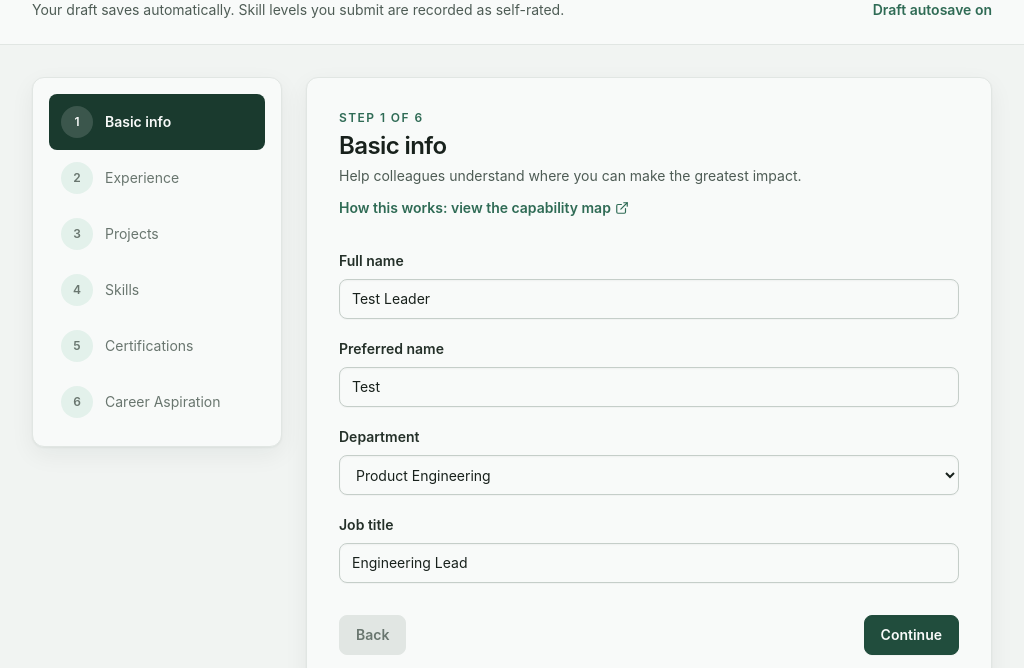
Test: profile validation feedback › navigates to the invalid step and shows the actionable field error
The image size is (1024, 668).
Click the button "6 Career Aspiration". click: [157, 402]
box: x1=49 y1=374 x2=265 y2=430
(page scrolled)
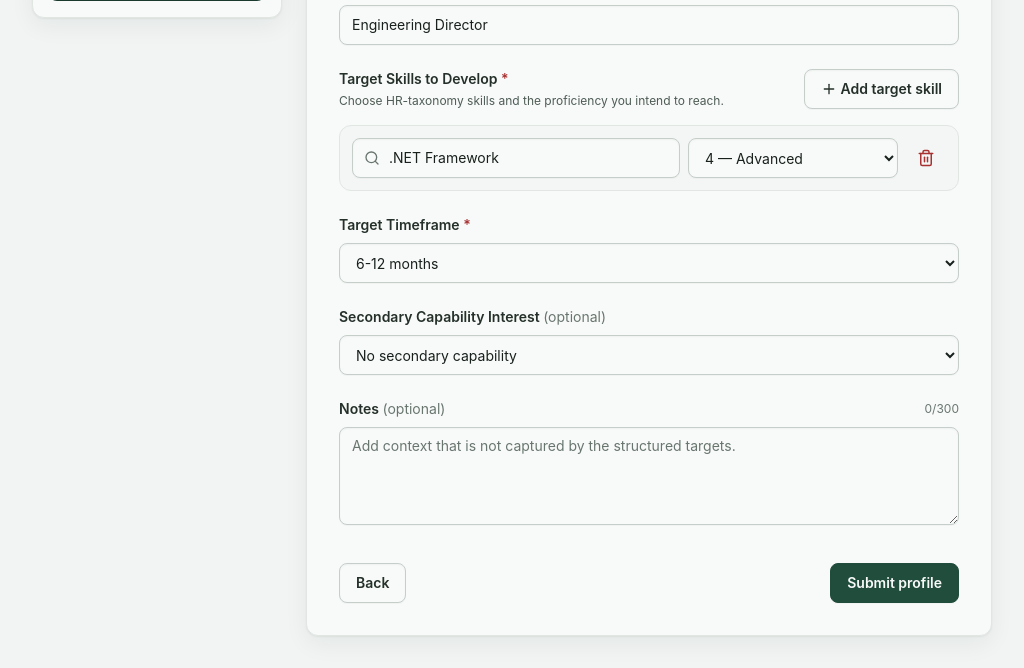
Click the button "Submit profile". click: [895, 583]
box: x1=830 y1=563 x2=959 y2=603
(page scrolled)
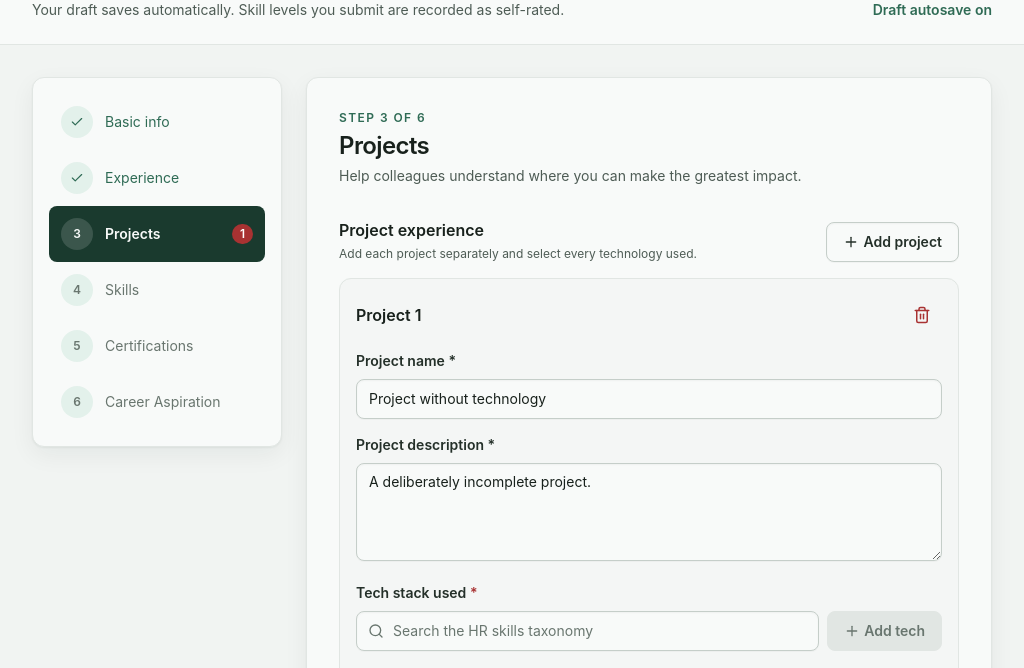
Result: the button with aria-label "Projects: 1 validation errors" is shown at x1=49 y1=206 x2=265 y2=262
Result: the text "Step 3 of 6" is shown at x1=339 y1=110 x2=426 y2=125
